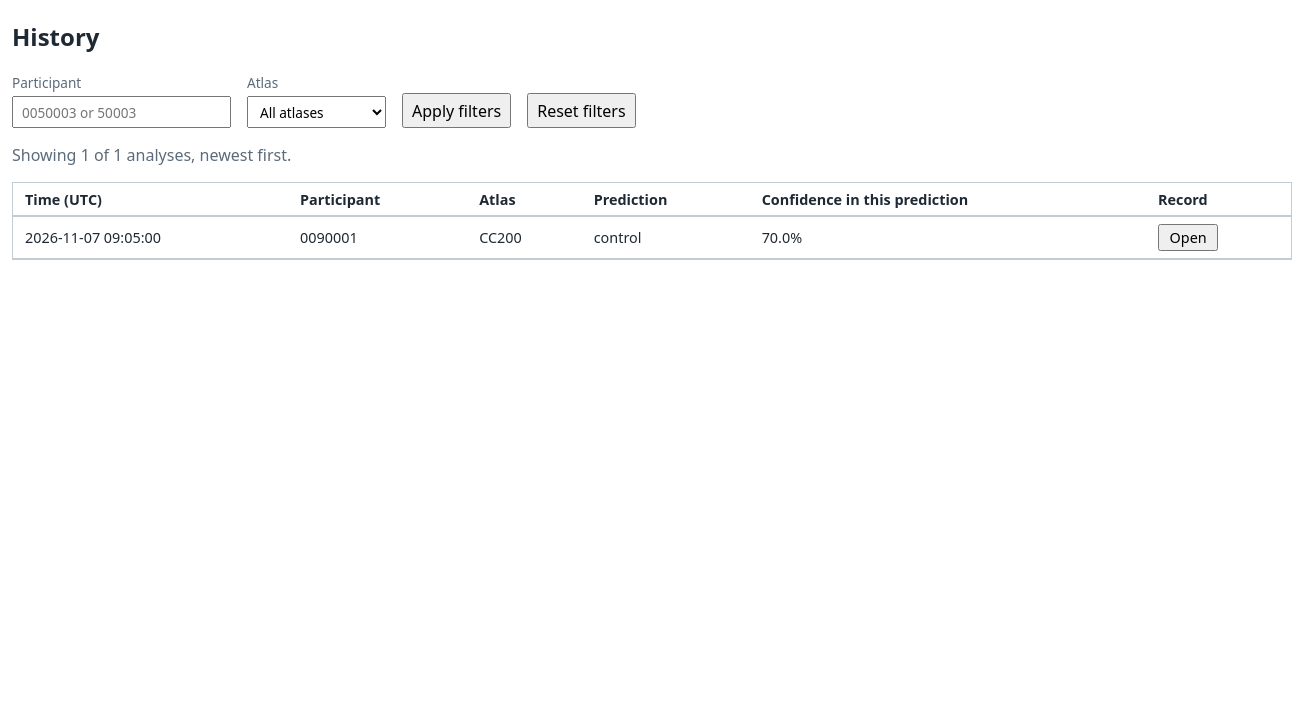
it: History page: export and regenerate › offers the open record as a JSON and a CSV download
The width and height of the screenshot is (1292, 720).
Click the button with aria-label "Open analysis a1b2c3d4e5f6": (1188, 238) [1158, 224, 1218, 251]
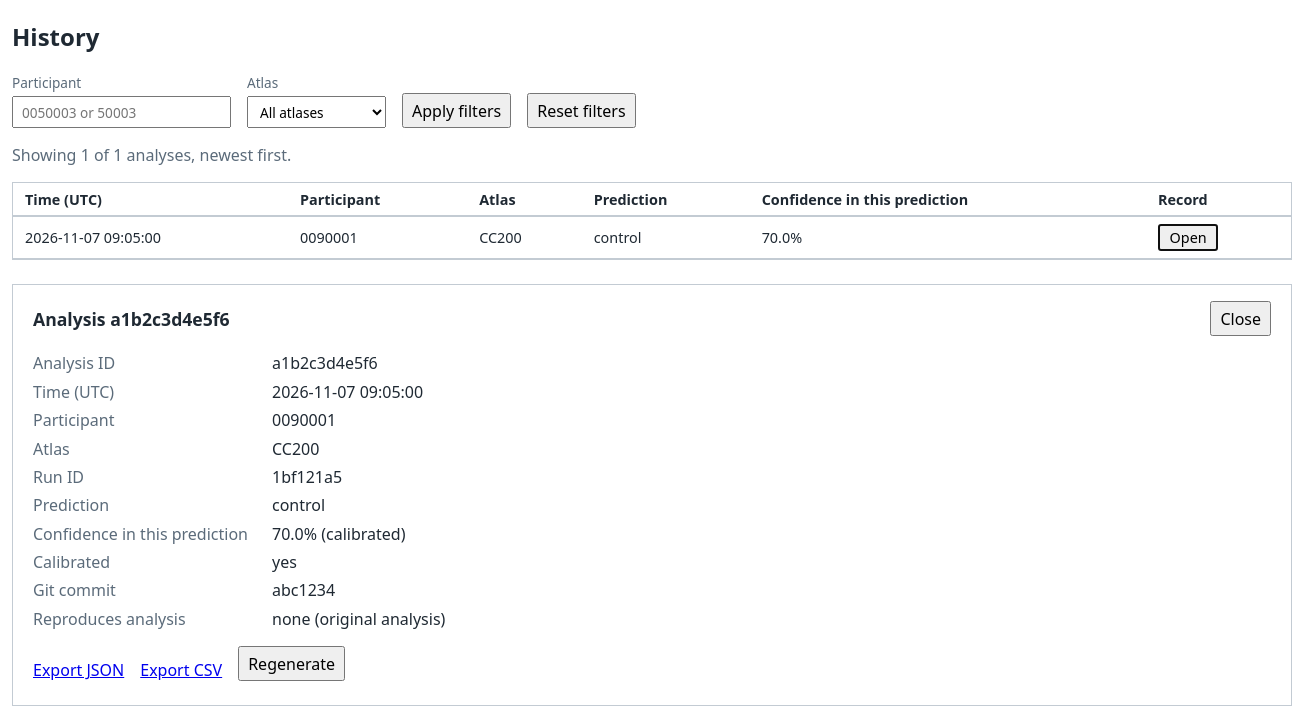
Check: the button "Regenerate" is shown, box [238, 646, 345, 682]
